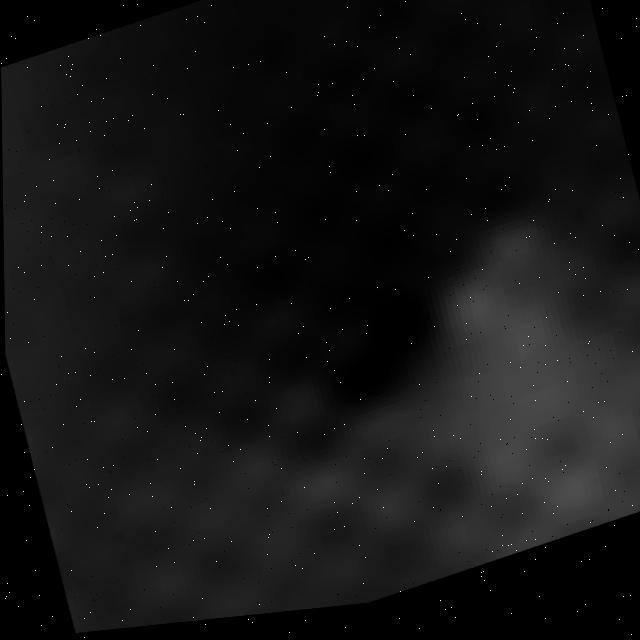person: (153, 217, 640, 629)
